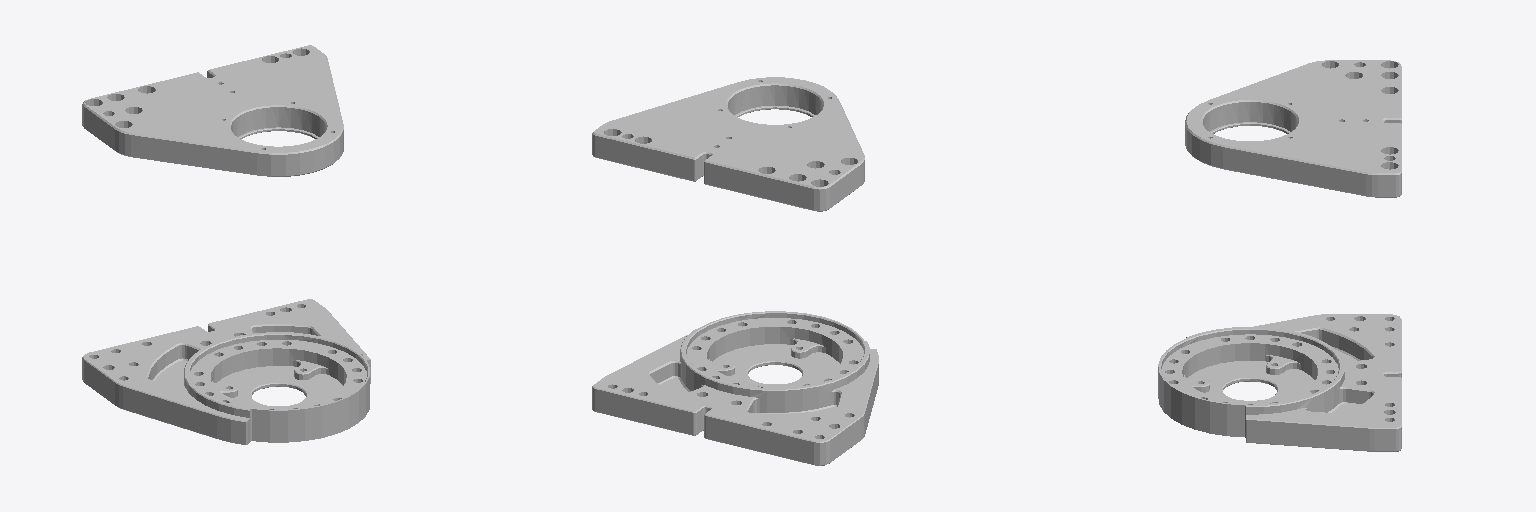
File: waist_yaw_link.obj
The picture shows the model from 3 angles: view 1: azimuth 30°, elevation 25°; view 2: azimuth 150°, elevation 25°; view 3: azimuth 270°, elevation 25°; orthographic projection.
Parts seen in each view (by area): view 1: waist_yaw_link; view 2: waist_yaw_link; view 3: waist_yaw_link.
Boxes of the visible parts, <box> form: waist_yaw_link: <box>82,45,370,444</box>; waist_yaw_link: <box>592,77,878,465</box>; waist_yaw_link: <box>1158,60,1401,451</box>.
Bounding box in the file's own units: 0.091 × 0.1033 × 0.082.